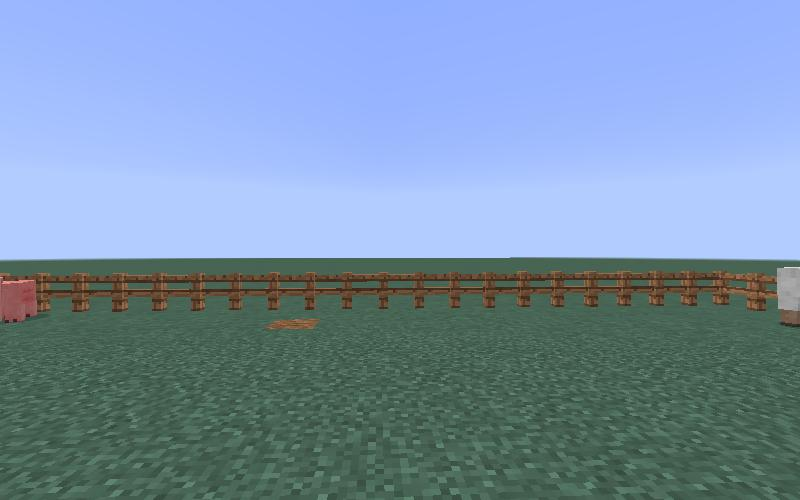pig: (1, 277, 37, 322)
